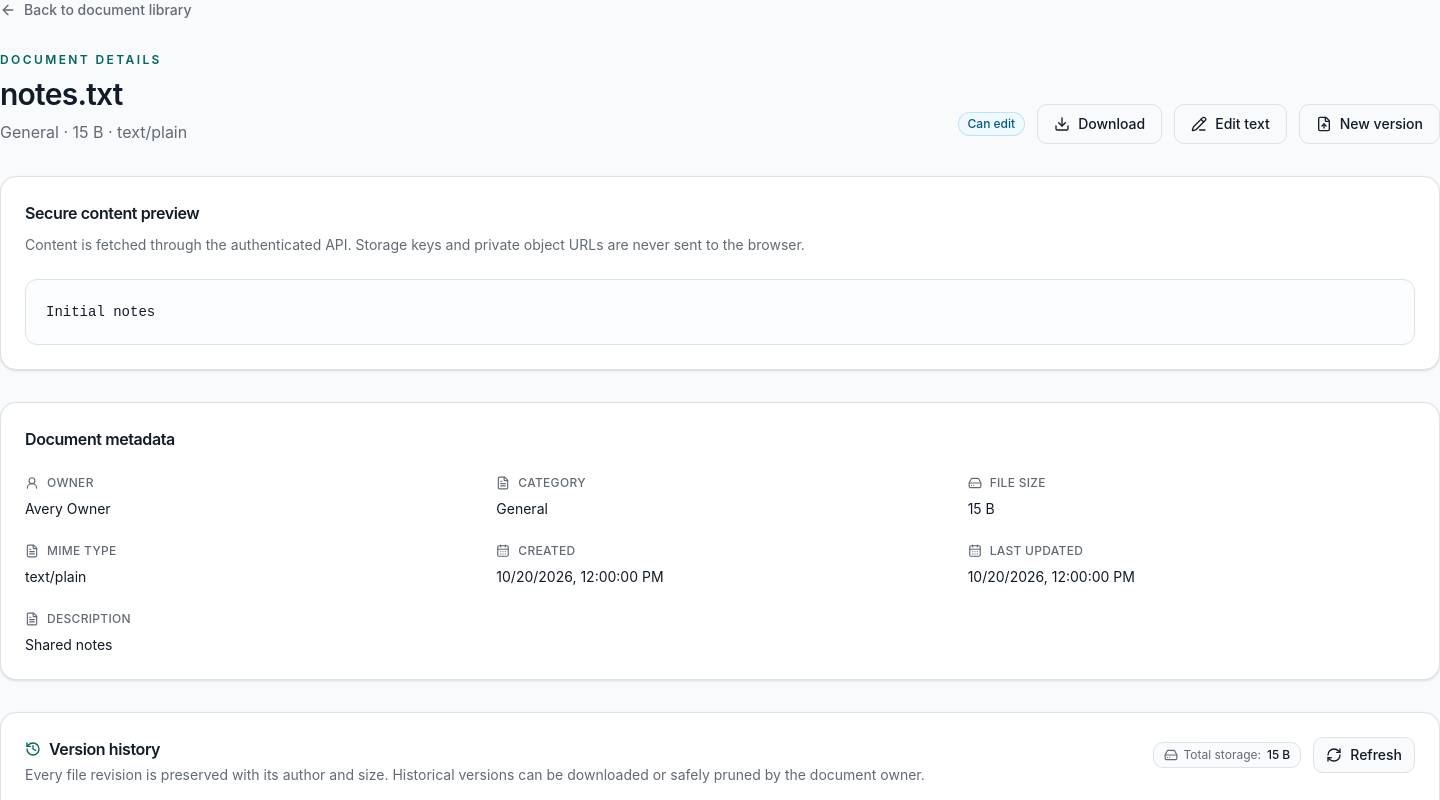
Scenario: DocumentDetailsPage content workflows › blocks a stale text editor until it is reopened
Click the button "Edit text" at (1230, 124), box [1174,104,1287,144]
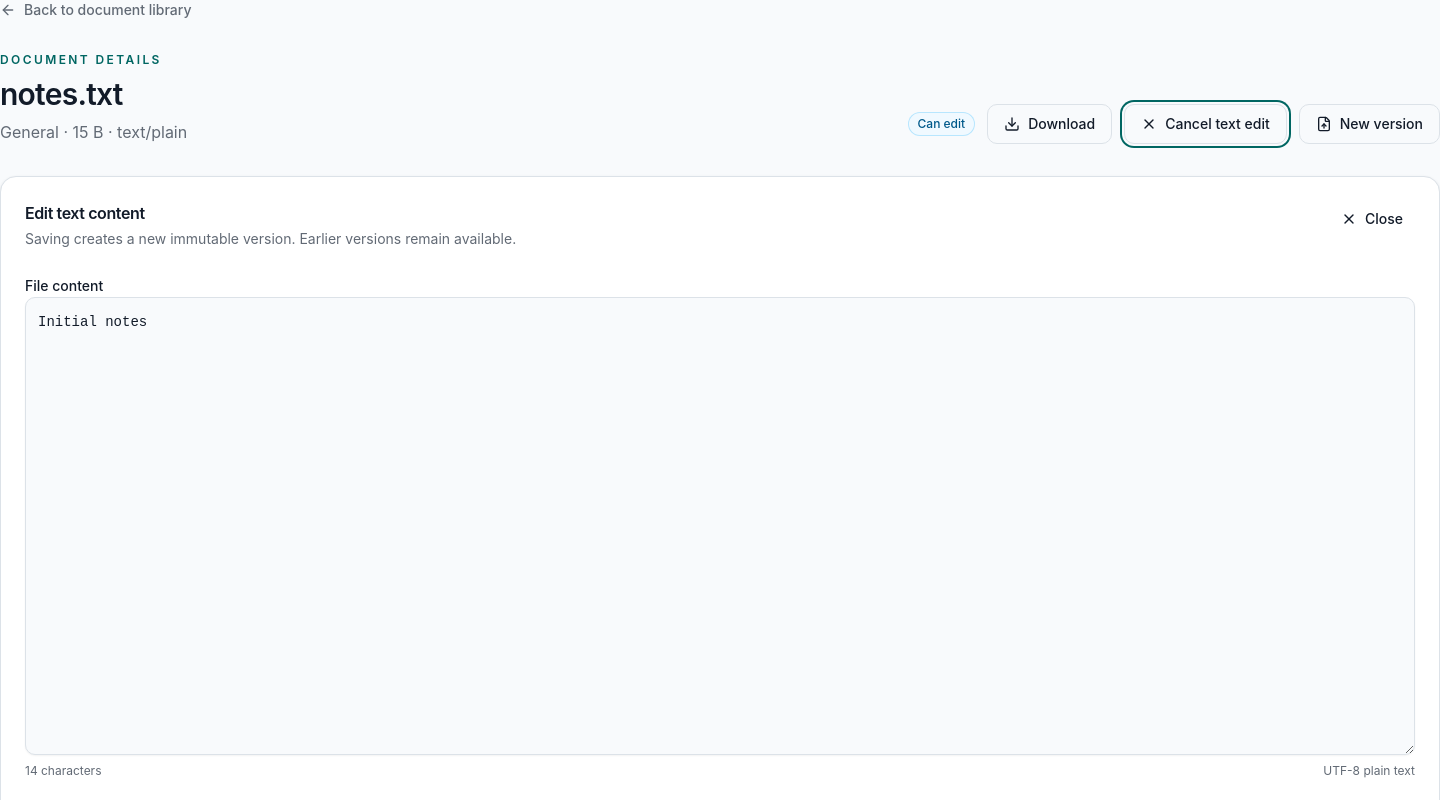
Replace the text in the text box labelled "File content" with "Conflicting update" at (720, 526), box [25,297,1415,755]
(page scrolled)
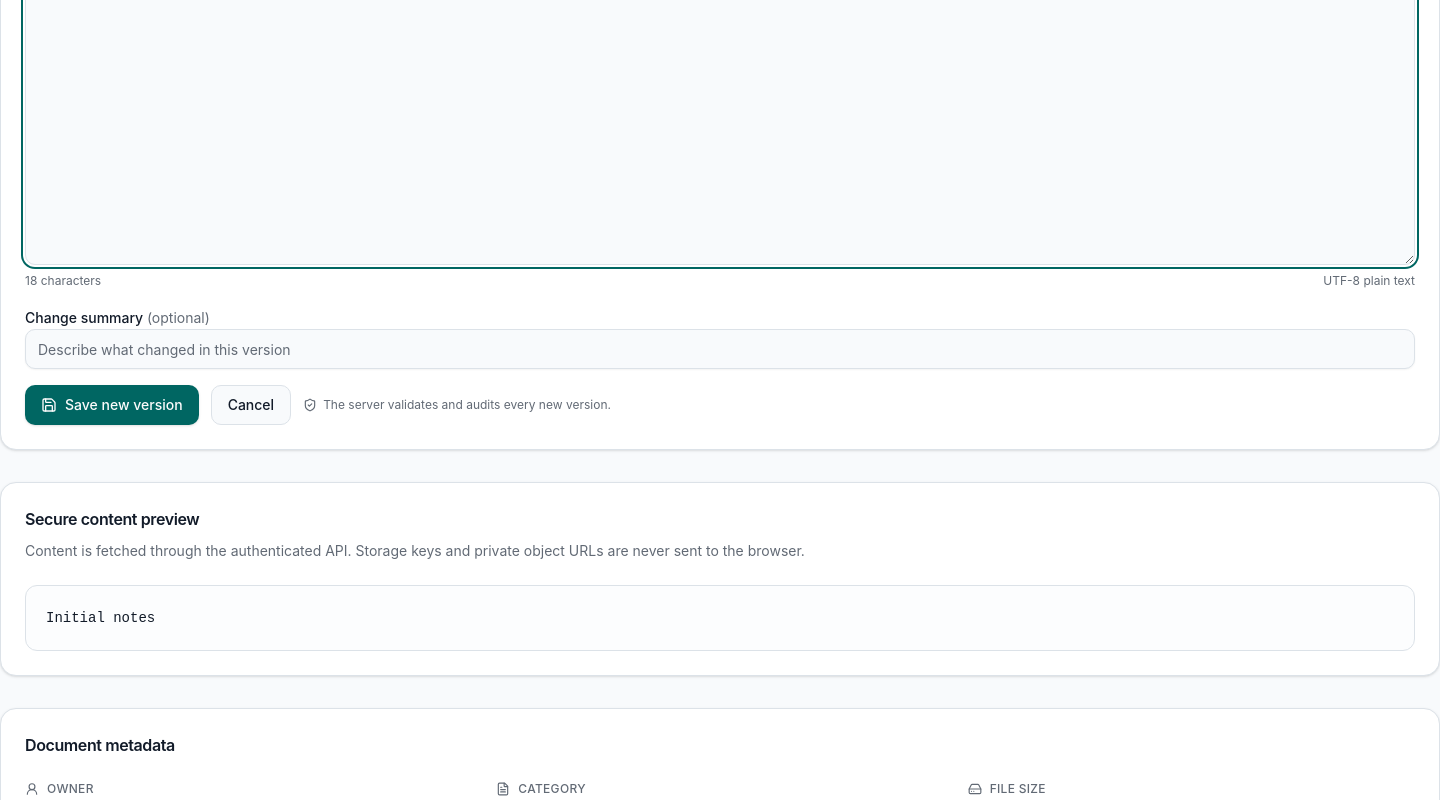
Click the button "Save new version" at (112, 405), box [25,385,199,425]
(page scrolled)
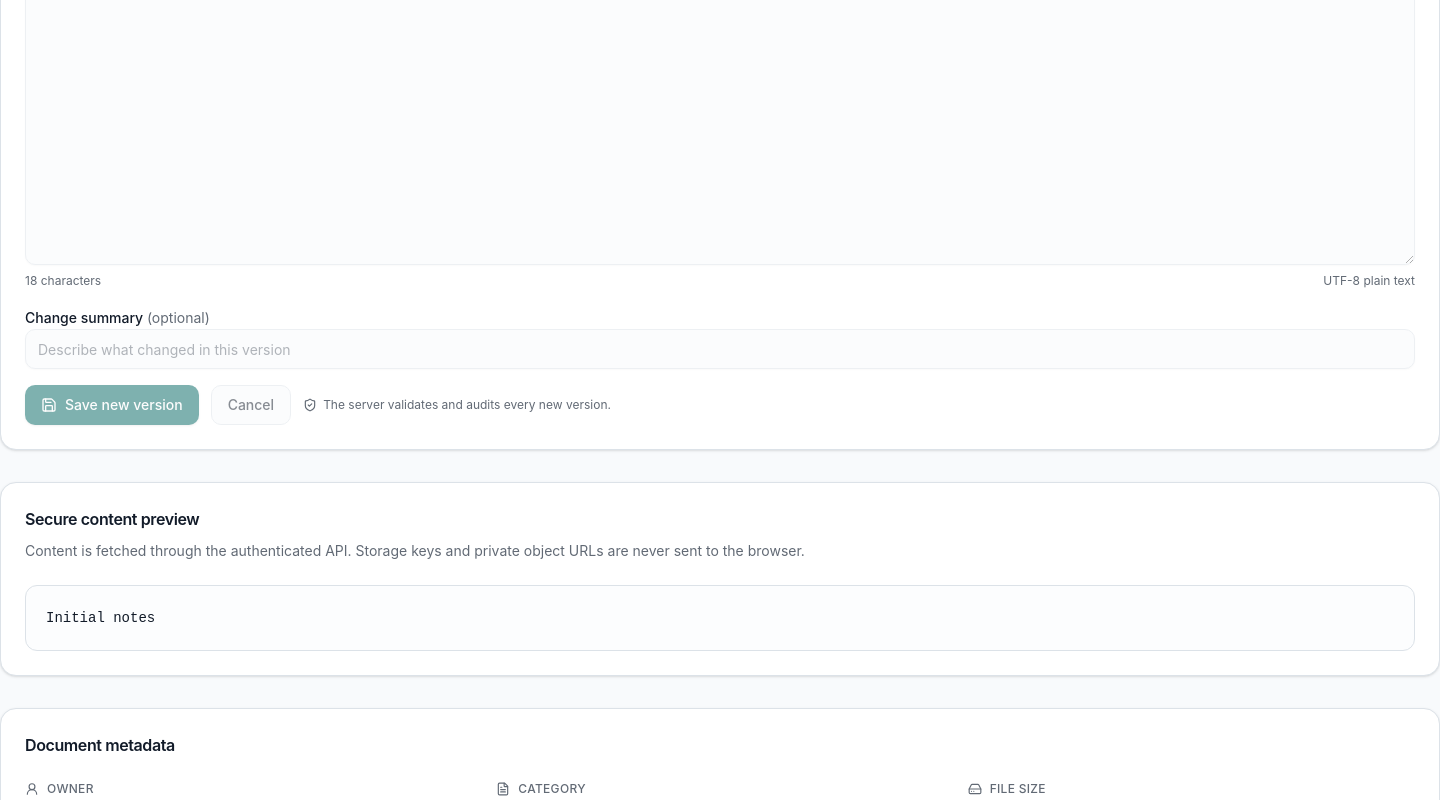
Expected: the button "Save new version" is disabled, [25,385,199,425]
